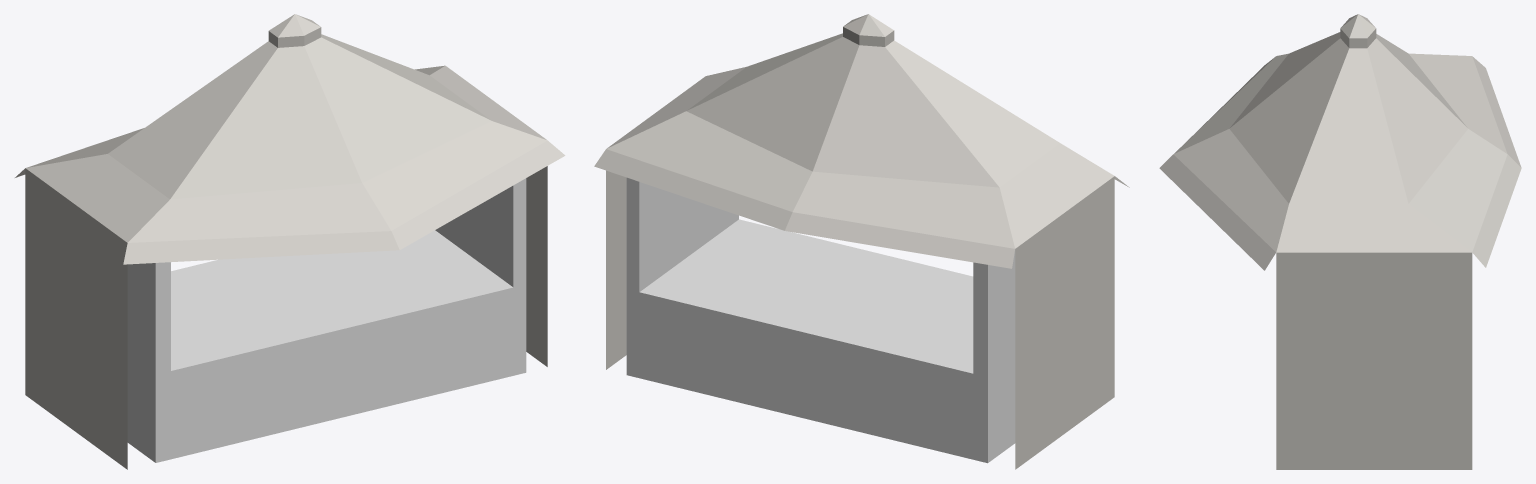
Rendered from Cabana.fbx.
3 views of the same model, side by side, from view 1: azimuth 30°, elevation 25°; view 2: azimuth 150°, elevation 25°; view 3: azimuth 270°, elevation 25° (orthographic). The views are drawn at different scales.
Visible parts, largest first — view 1: Cabana.001, Balcao.001; view 2: Cabana.001, Balcao.001; view 3: Cabana.001.
Part boxes in pixels (left/top/right/bottom): Cabana.001: left=15, top=14, right=565, bottom=469; Balcao.001: left=127, top=178, right=526, bottom=462; Cabana.001: left=594, top=14, right=1129, bottom=469; Balcao.001: left=626, top=177, right=1015, bottom=463; Cabana.001: left=1159, top=14, right=1521, bottom=469.
Size of the model in its own units: 448 by 361 by 332.
